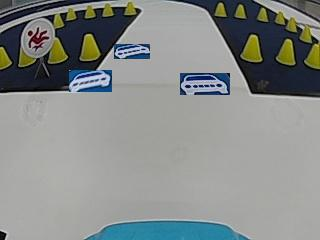cone: (241, 33, 263, 63), (79, 33, 101, 62), (276, 38, 295, 67), (47, 38, 68, 64), (304, 41, 319, 70), (18, 47, 33, 67), (0, 46, 11, 69), (299, 24, 310, 42), (214, 2, 227, 17), (234, 3, 246, 19), (83, 3, 95, 19), (52, 12, 64, 28), (285, 15, 296, 32), (124, 0, 136, 15), (256, 7, 268, 22), (102, 3, 114, 17), (65, 7, 77, 21), (275, 10, 285, 25)
tumble: (23, 21, 52, 53)
